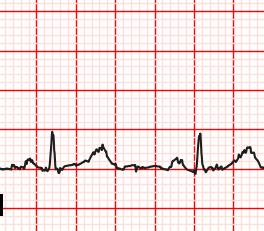LVH: (224, 143, 263, 172), (76, 142, 114, 169)
Poor R Progression: (43, 128, 60, 174), (193, 129, 206, 177)
